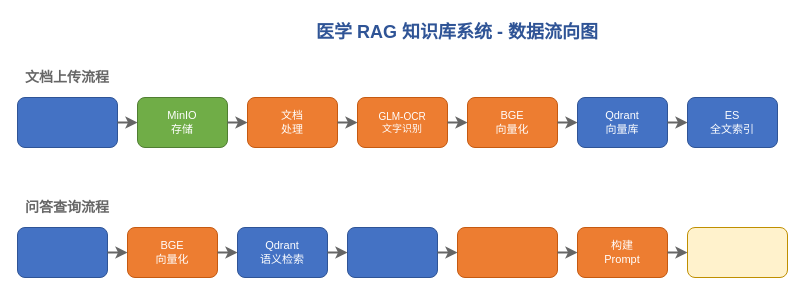
Some shapes in this 805 by 295 pixel diagram are drawn without their labels. Here are the shapes that lost their labels. From the top down, the centre of each, then its label:
At (x=67, y=122): "上传 文档".
At (x=62, y=252): "用户 提问".
At (x=392, y=252): "ES 关键词召回".
At (x=507, y=252): "RAG融合 重排序".
At (x=737, y=252): "VLLM Qwen3.5 流式响应".
